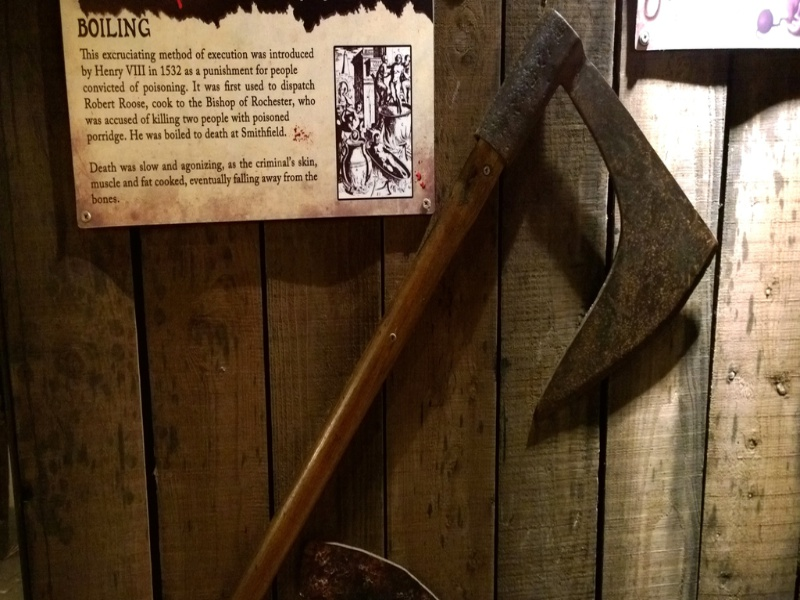axe: (449, 6, 730, 427)
